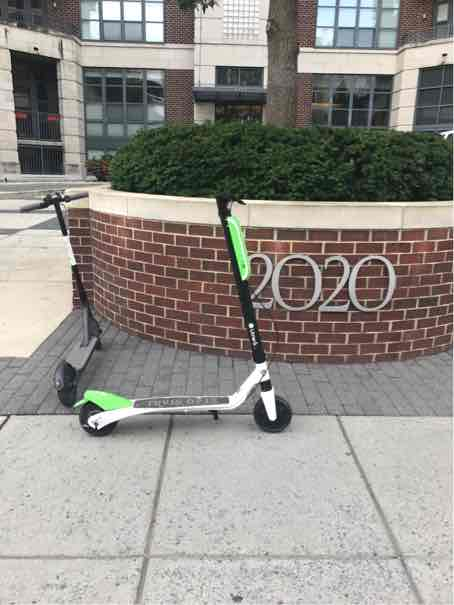scooter: (66, 167, 294, 441)
